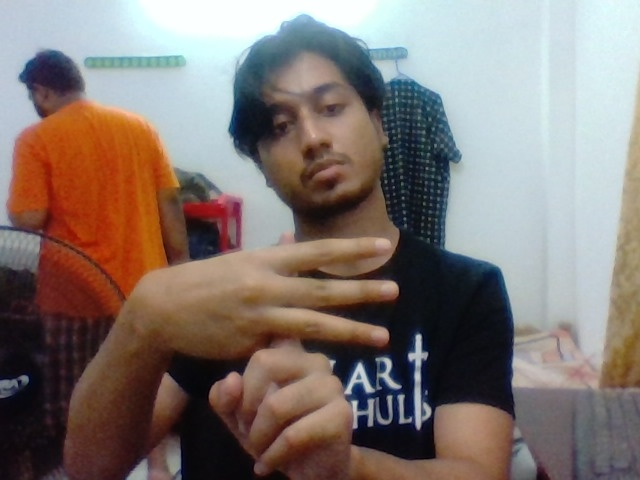E: (202, 219, 410, 462)
